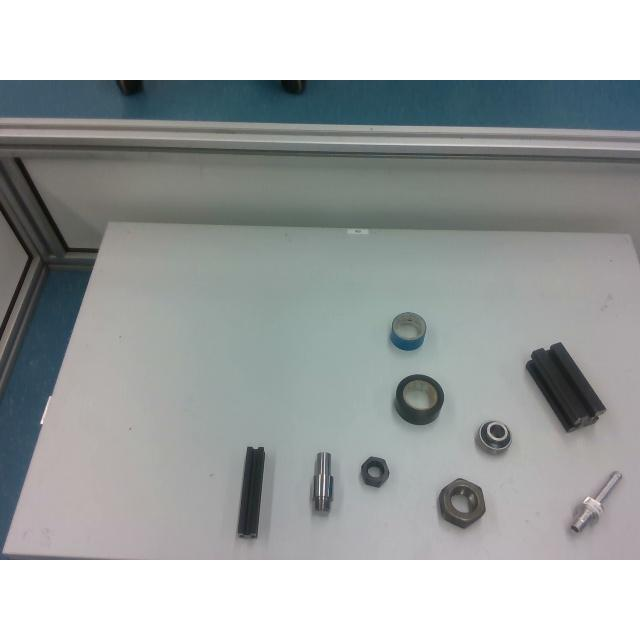Axis2: (312, 451, 332, 511)
Bearing2: (476, 420, 512, 454)
F20_20_B: (237, 446, 266, 540)
M20: (359, 456, 388, 486)
M30: (437, 478, 485, 526)
S40_40_B: (525, 341, 607, 434)
